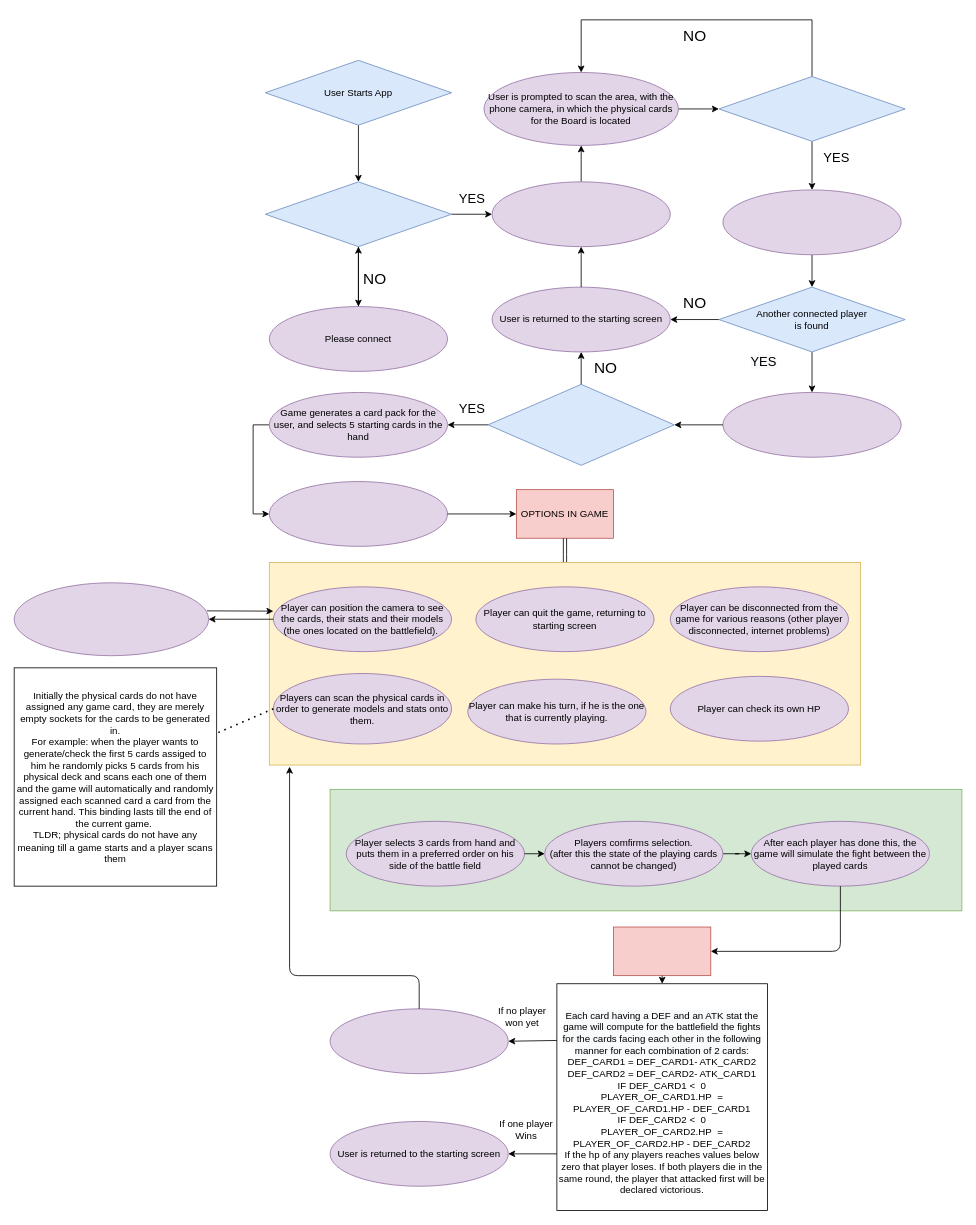
Image size: 976x1225. Some labels were removed from this diagram. The centre of each missing label's shape, as x and y in pixels:
"Battle simmulation phase" goes at pixel 662 951.
"Both Players are prompted to comfirm playing the game" goes at pixel 811 424.
"Both Players comfirm to play the game" goes at pixel 580 424.
"Change the first attacking player" goes at pixel 418 1041.
"Game picks the first player" goes at pixel 358 513.
"Player can click on a model/card to see more details about that card/model" goes at pixel 111 619.
"Player search begins (the user can cancel this) (phase screen)" goes at pixel 811 222.
"User has the option to start preparing for a round of the game" goes at pixel 580 214.
"User has the Physical Field deployed" goes at pixel 811 108.
"User is connected to the Internet" goes at pixel 358 214.
